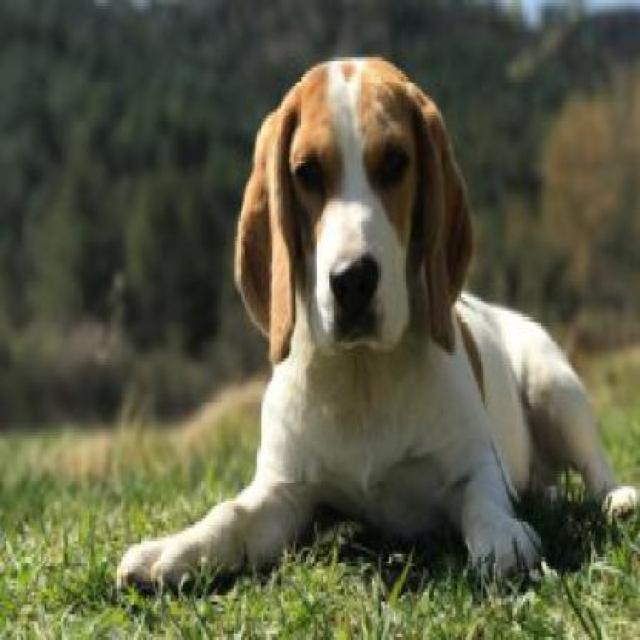Dog: (111, 51, 638, 604)
